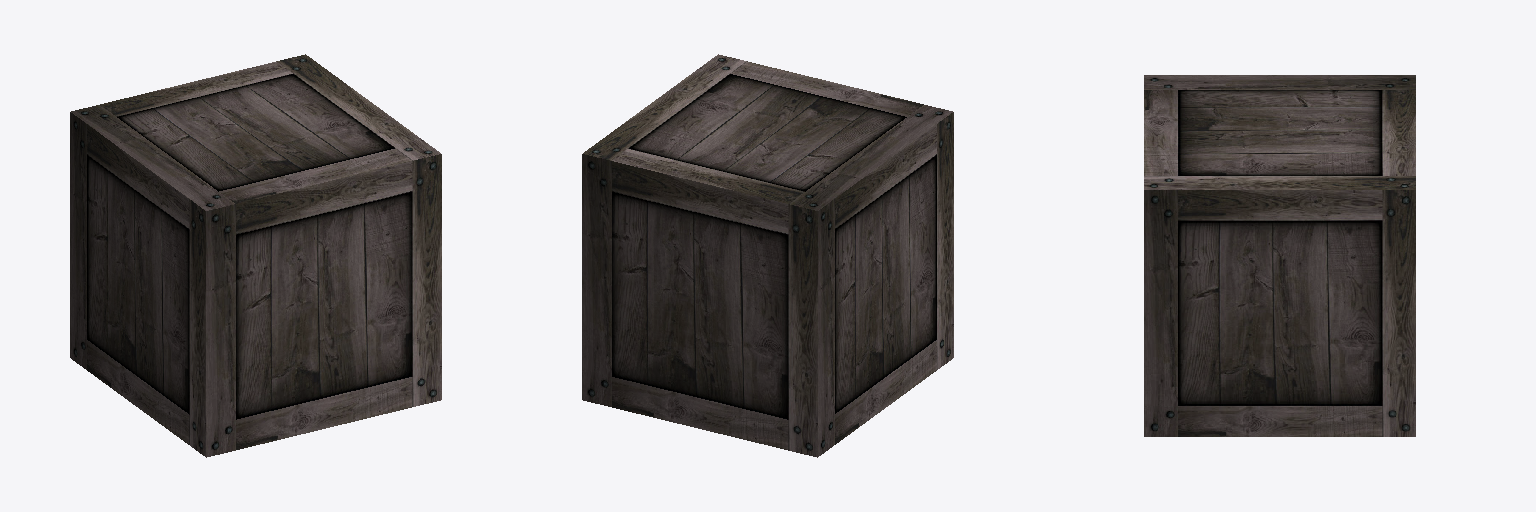
3 views of the same model, side by side, from view 1: azimuth 30°, elevation 25°; view 2: azimuth 150°, elevation 25°; view 3: azimuth 270°, elevation 25° (orthographic).
Parts seen in each view (by area): view 1: Cube_Cube.001; view 2: Cube_Cube.001; view 3: Cube_Cube.001.
Boxes of the visible parts, <box> form: Cube_Cube.001: <box>70,54,441,457</box>; Cube_Cube.001: <box>582,54,953,457</box>; Cube_Cube.001: <box>1144,75,1415,436</box>.
Bounding box in the file's own units: 1 × 1 × 1.
1 materials, 1 textured.